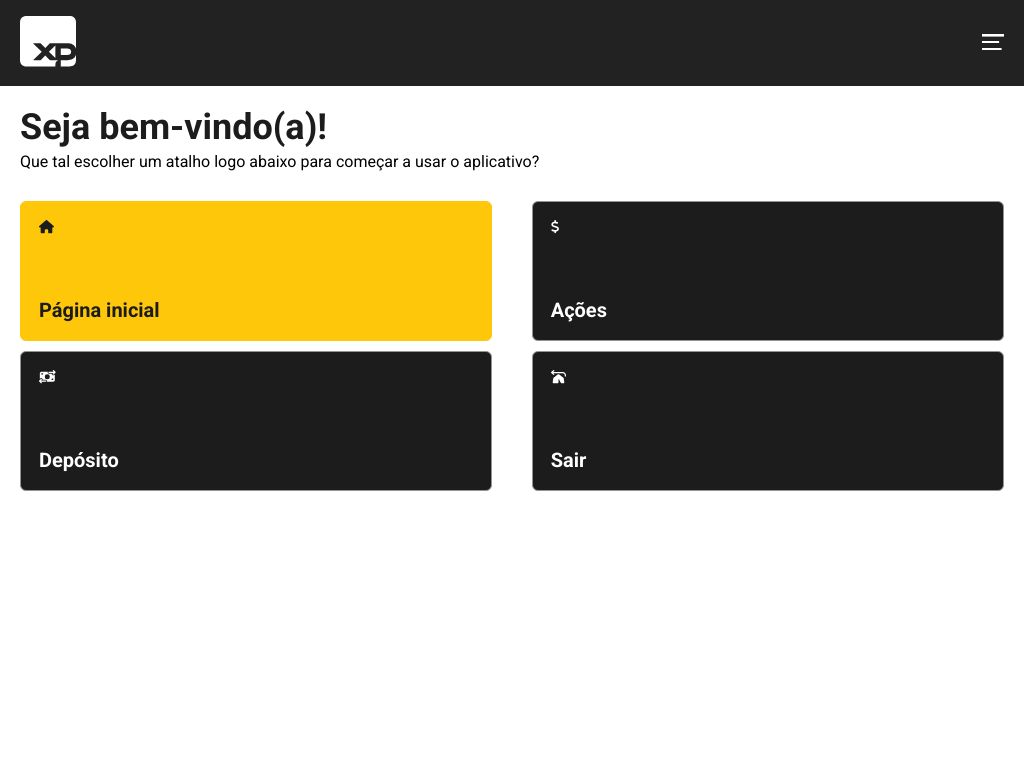
Scenario: Verifica se › O redirecionamento para depositar é feito corretamente
Click the 2nd button at coordinates (993, 43), box [982,15,1004,71]
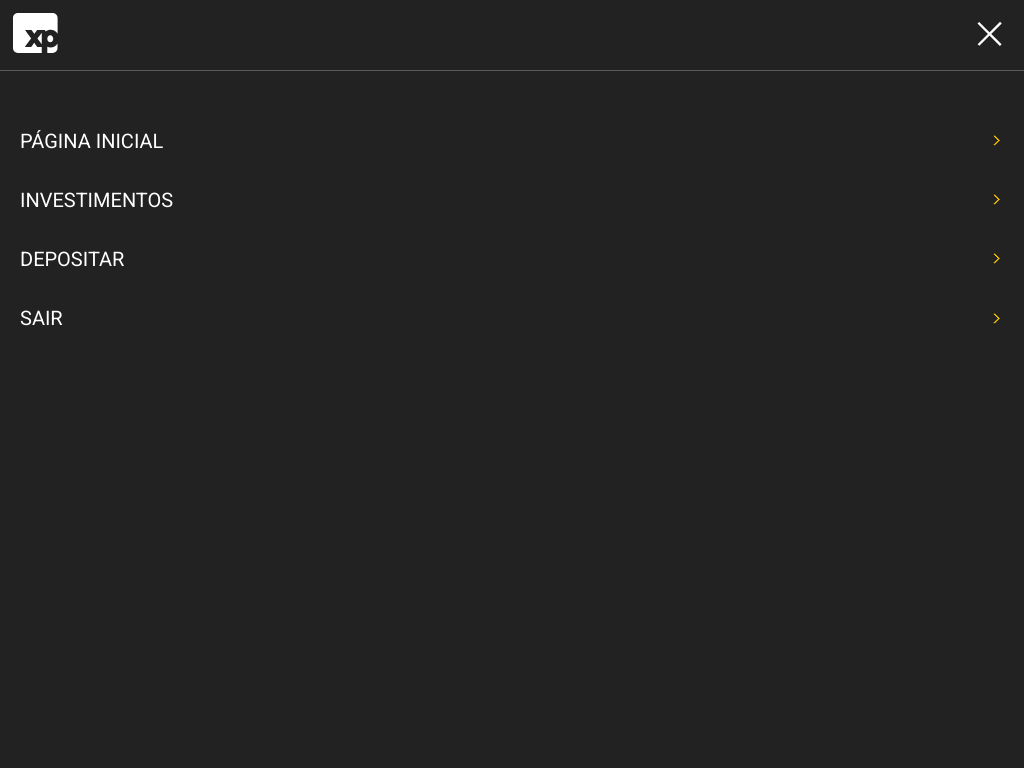
Click the link "Depositar" at coordinates (72, 259), box [20,247,124,271]
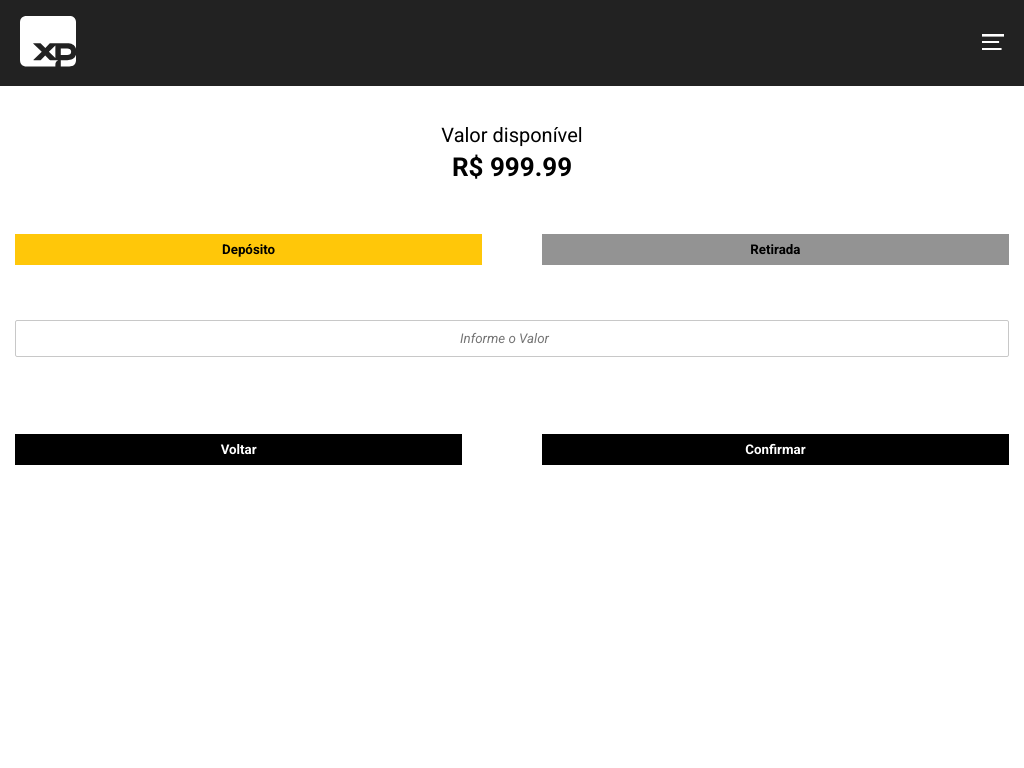
expect the button "Depósito" is shown: met, box [15,234,482,265]
expect the button "Retirada" is shown: met, box [542,234,1009,265]
expect the number field with placeholder "Informe o Valor" is shown: met, box [15,320,1009,357]
Click the button with test id "home-logo-button" at coordinates (48, 43), box [20,16,76,70]
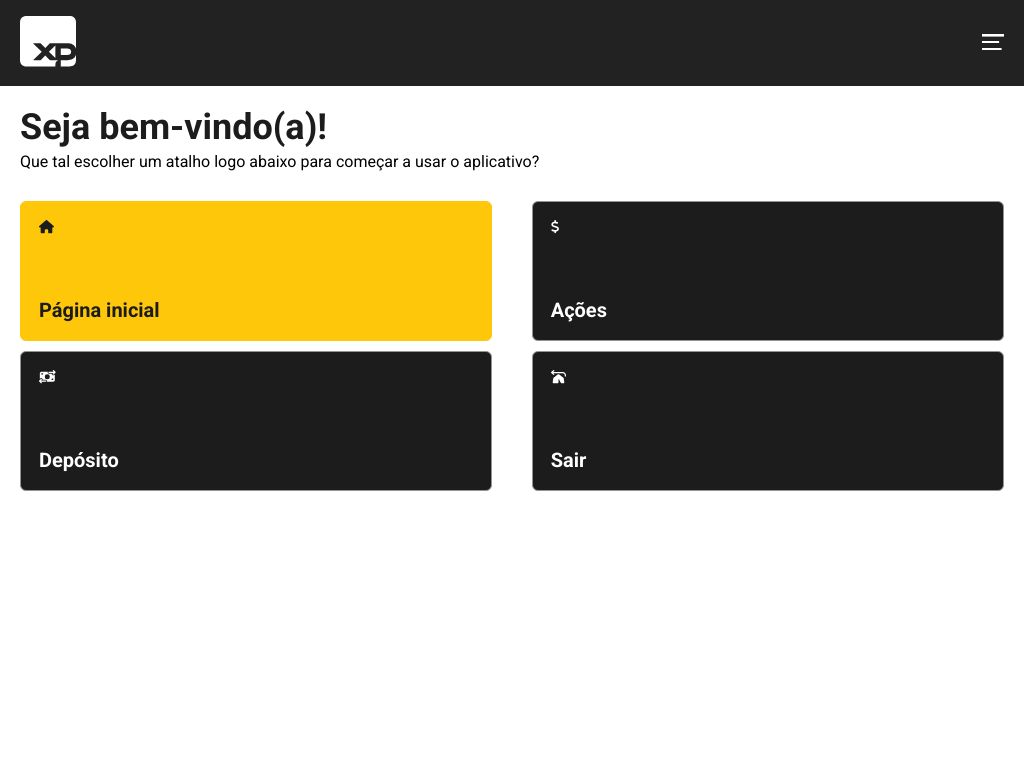
expect the heading "Seja bem-vindo(a)!" is shown: met, box [20,106,327,148]
